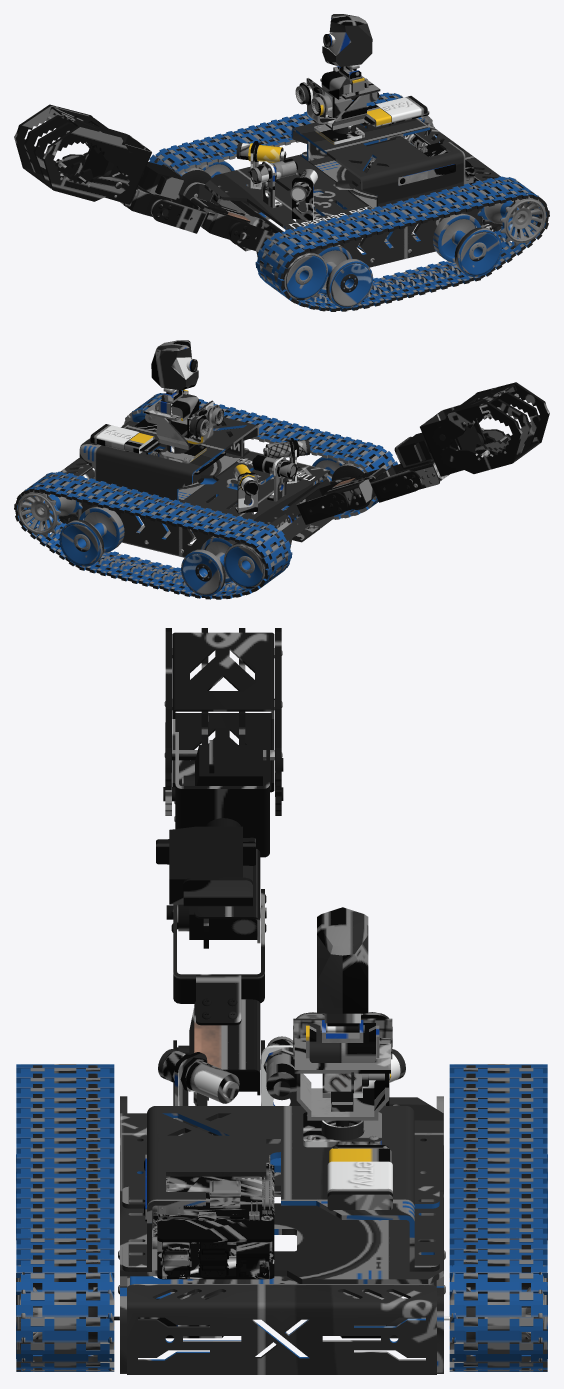
The model's file is Xiao-r GFS-X_1.fbx.
3 renders of one model, top to bottom at view 1: azimuth 30°, elevation 25°; view 2: azimuth 150°, elevation 25°; view 3: azimuth 270°, elevation 25°, orthographic. The views are drawn at different scales.
Parts seen in each view (by area): view 1: Plane.026, Plane, Circle.004, Circle.003, Cylinder.002, Cylinder.001, Circle.005, Plane.017, Plane.016, Cylinder.003, Cylinder, Cube.003 (+3 smaller); view 2: Plane.026, Plane, Circle.004, Circle.003, Cylinder.002, Cylinder.001, Circle.005, Cylinder.003, Plane.017, Plane.016, Cylinder, Circle.002 (+3 smaller); view 3: Plane.026, Plane, Circle.004, Cube.003, Circle.005, Circle.002, Plane.016, Cube.007, Circle.003, Plane.017, Cylinder.003.
Boxes of the visible parts, box(x1,y1,x2,y2) form: Plane.026: box(183, 96, 501, 267); Plane: box(149, 92, 549, 311); Circle.004: box(17, 104, 138, 175); Circle.003: box(14, 131, 129, 201); Cylinder.002: box(433, 212, 501, 276); Cylinder.001: box(200, 160, 373, 308); Circle.005: box(152, 194, 250, 239); Plane.017: box(295, 78, 379, 130); Plane.016: box(322, 14, 372, 75); Cylinder.003: box(390, 93, 546, 246); Cylinder: box(156, 160, 327, 300); Cube.003: box(120, 162, 183, 216); Plane.026: box(59, 417, 350, 557); Plane: box(14, 393, 397, 599); Circle.004: box(432, 382, 546, 448); Circle.003: box(440, 408, 549, 473); Cylinder.002: box(59, 505, 124, 566); Cylinder.001: box(181, 457, 344, 596); Circle.005: box(324, 464, 421, 511); Cylinder.003: box(17, 393, 164, 537); Plane.017: box(145, 400, 224, 450); Plane.016: box(151, 340, 198, 398); Cylinder: box(223, 456, 390, 588); Circle.002: box(420, 405, 485, 476); Plane.026: box(114, 1036, 449, 1374); Plane: box(16, 1064, 547, 1371); Circle.004: box(165, 628, 283, 789); Cube.003: box(156, 818, 260, 948); Circle.005: box(171, 889, 266, 1100); Circle.002: box(163, 732, 269, 857); Plane.016: box(317, 907, 368, 1032); Cube.007: box(294, 1020, 390, 1093); Circle.003: box(164, 657, 283, 815); Plane.017: box(293, 1012, 392, 1126); Cylinder.003: box(17, 1265, 546, 1370).
Bounding box in the file's own units: 618 × 270 × 323.
